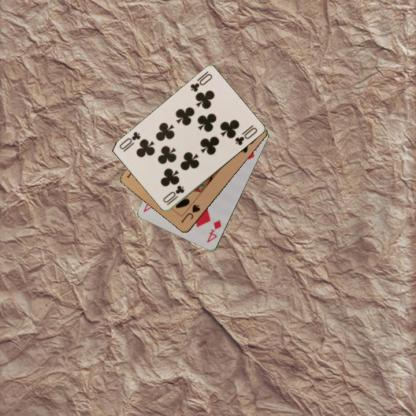10c: (187, 68, 213, 94), (160, 183, 186, 207)
4d: (204, 218, 223, 244)
Js: (178, 202, 202, 224)
